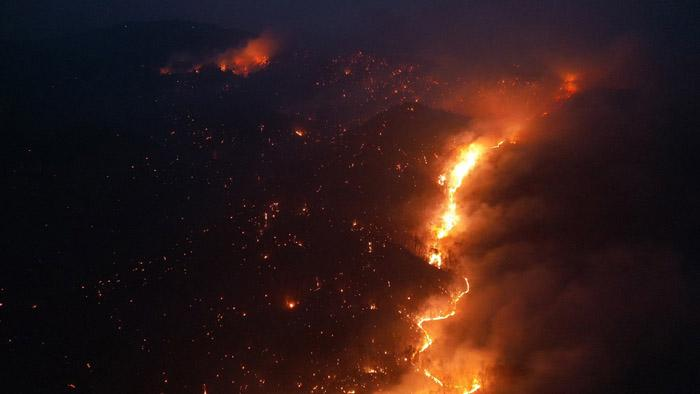fire: (410, 96, 518, 376)
